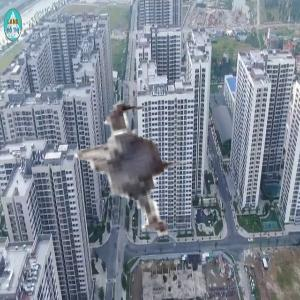drone: (50, 74, 225, 249)
